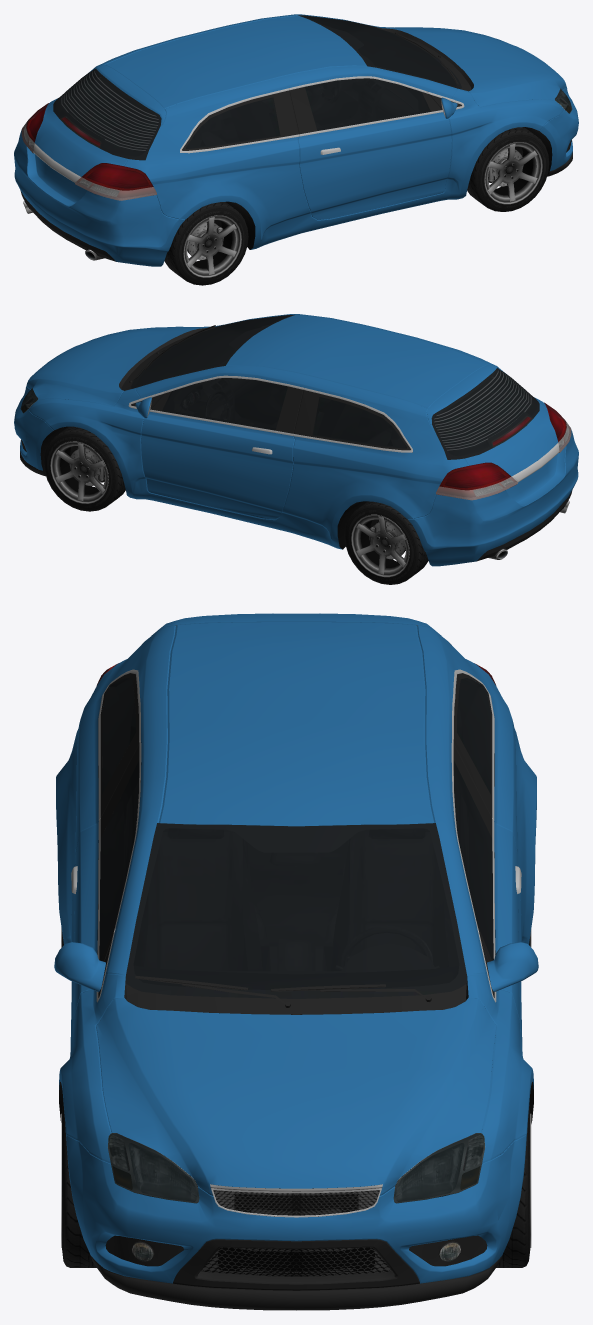
Rendered from hatchback-blender.glb.
3 views of the same model, one above another, from view 1: azimuth 30°, elevation 25°; view 2: azimuth 150°, elevation 25°; view 3: azimuth 270°, elevation 25° (orthographic). The views are drawn at different scales.
Parts seen in each view (by area): view 1: Sigil08_Body_Cowagon08_Bodymat_0, Sigil08_Interior_UCB_Interiors_2_0, bumper_rear, Sigil08_Bottom_UCB_BOTTOM_LT_0, Sigil08_Hood_Cowagon08_Bodymat_0, Sigil08_Rear_Glass_UCB_Lights_and_Glass_Transperent_0, wheel_rr_rueda, wheel_fr_rueda, Sigil08_Glass_Passanger_UCB_Lights_and_Glass_Transperent_0, windshield, Sigil08_Taillights_Glass_UCB_Lights_and_Glass_Transperent_0, Sigil08_Glass_Body_UCB_Lights_and_Glass_Transperent_0 (+3 smaller); view 2: Sigil08_Body_Cowagon08_Bodymat_0, Sigil08_Interior_UCB_Interiors_2_0, bumper_rear, Sigil08_Bottom_UCB_BOTTOM_LT_0, Sigil08_Hood_Cowagon08_Bodymat_0, Sigil08_Rear_Glass_UCB_Lights_and_Glass_Transperent_0, wheel_rl_rueda, wheel_fl_rueda, Sigil08_Glass_Driver_UCB_Lights_and_Glass_Transperent_0, windshield, Sigil08_Taillights_Glass_UCB_Lights_and_Glass_Transperent_0, Sigil08_Glass_Body_UCB_Lights_and_Glass_Transperent_0 (+4 smaller); view 3: Sigil08_Body_Cowagon08_Bodymat_0, Sigil08_Hood_Cowagon08_Bodymat_0, Sigil08_Interior_UCB_Interiors_2_0, windshield, Sigil08_Bottom_UCB_BOTTOM_LT_0, bumper_front, Sigil08_Bumper_Front_Inner_UCB_BOTTOM_LT_0, Sigil08_headlights_Glass_UCB_Lights_and_Glass_Transperent_0, Sigil08_Glass_Body_UCB_Lights_and_Glass_Transperent_0, Sigil08_Glass_Passanger_UCB_Lights_and_Glass_Transperent_0, Sigil08_Glass_Driver_UCB_Lights_and_Glass_Transperent_0, headlight_l (+3 smaller).
Part boxes in pixels (box(x1,y1,x2,y2)): Sigil08_Body_Cowagon08_Bodymat_0: box(33, 14, 563, 249); Sigil08_Interior_UCB_Interiors_2_0: box(56, 17, 455, 155); bumper_rear: box(14, 130, 185, 266); Sigil08_Bottom_UCB_BOTTOM_LT_0: box(22, 15, 571, 260); Sigil08_Hood_Cowagon08_Bodymat_0: box(381, 27, 566, 106); Sigil08_Rear_Glass_UCB_Lights_and_Glass_Transperent_0: box(53, 69, 160, 160); wheel_rr_rueda: box(164, 202, 248, 285); wheel_fr_rueda: box(467, 127, 549, 211); Sigil08_Glass_Passanger_UCB_Lights_and_Glass_Transperent_0: box(305, 78, 430, 130); windshield: box(298, 15, 461, 89); Sigil08_Taillights_Glass_UCB_Lights_and_Glass_Transperent_0: box(21, 103, 156, 200); Sigil08_Glass_Body_UCB_Lights_and_Glass_Transperent_0: box(100, 77, 280, 148); Sigil08_Body_Cowagon08_Bodymat_0: box(29, 314, 559, 549); Sigil08_Interior_UCB_Interiors_2_0: box(137, 316, 536, 455); bumper_rear: box(407, 430, 578, 566); Sigil08_Bottom_UCB_BOTTOM_LT_0: box(21, 315, 570, 559); Sigil08_Hood_Cowagon08_Bodymat_0: box(26, 326, 209, 406); Sigil08_Rear_Glass_UCB_Lights_and_Glass_Transperent_0: box(432, 368, 539, 459); wheel_rl_rueda: box(344, 501, 428, 584); wheel_fl_rueda: box(43, 426, 125, 511); Sigil08_Glass_Driver_UCB_Lights_and_Glass_Transperent_0: box(162, 378, 287, 430); windshield: box(131, 314, 294, 388); Sigil08_Taillights_Glass_UCB_Lights_and_Glass_Transperent_0: box(436, 403, 571, 500); Sigil08_Glass_Body_UCB_Lights_and_Glass_Transperent_0: box(312, 377, 493, 448); Sigil08_Body_Cowagon08_Bodymat_0: box(54, 613, 538, 1163); Sigil08_Hood_Cowagon08_Bodymat_0: box(96, 998, 496, 1195); Sigil08_Interior_UCB_Interiors_2_0: box(99, 678, 492, 995); windshield: box(126, 823, 466, 998); Sigil08_Bottom_UCB_BOTTOM_LT_0: box(59, 663, 533, 1310); bumper_front: box(66, 1135, 526, 1283); Sigil08_Bumper_Front_Inner_UCB_BOTTOM_LT_0: box(91, 1216, 501, 1310); Sigil08_headlights_Glass_UCB_Lights_and_Glass_Transperent_0: box(108, 1133, 484, 1203); Sigil08_Glass_Body_UCB_Lights_and_Glass_Transperent_0: box(102, 678, 490, 794); Sigil08_Glass_Passanger_UCB_Lights_and_Glass_Transperent_0: box(99, 760, 139, 960); Sigil08_Glass_Driver_UCB_Lights_and_Glass_Transperent_0: box(453, 760, 493, 960); headlight_l: box(396, 1136, 482, 1201).
Bounding box in the file's own units: 4.33 × 1.38 × 1.78.
Materials: 6 (5 with a texture image).
